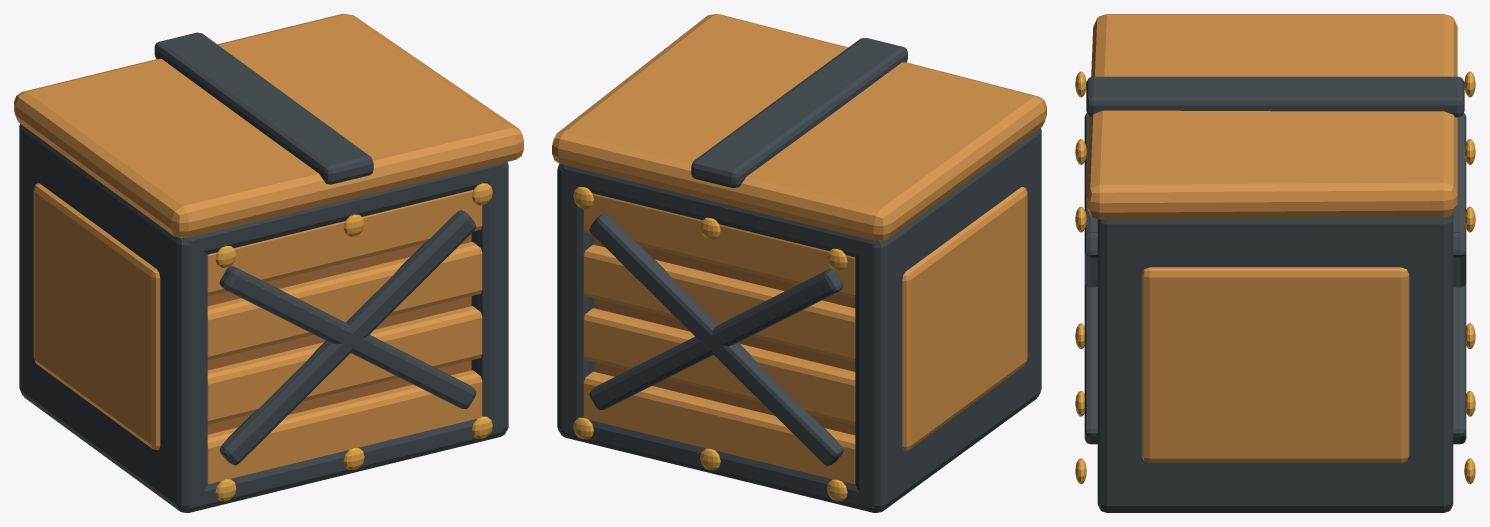
The model's file is crate.glb.
The picture shows the model from 3 angles, left to right: view 1: azimuth 30°, elevation 25°; view 2: azimuth 150°, elevation 25°; view 3: azimuth 270°, elevation 25°; orthographic projection. The views are drawn at different scales.
Parts seen in each view (by area): view 1: Lid, Corner_Post, Side_Panel, Front_Plank, Front_Plank.001, Front_Plank.002, Lid_Band, Front_Plank.003, X_Brace, Corner_Post.001, X_Brace.001, Iron_Band (+2 smaller); view 2: Lid, Corner_Post, Side_Panel, Back_Plank, Back_Plank.001, Back_Plank.002, Lid_Band, Back_Plank.003, X_Brace.002, Corner_Post.001, X_Brace.003, Iron_Band (+2 smaller); view 3: Lid, Side_Panel.001, Corner_Post.001, Lid_Band, X_Brace.003, X_Brace.001, X_Brace, X_Brace.002, Iron_Band.
Boxes of the visible parts, <box> form: Lid: <box>14,14,523,237</box>; Corner_Post: <box>19,124,207,510</box>; Side_Panel: <box>33,183,160,449</box>; Front_Plank: <box>207,370,482,483</box>; Front_Plank.001: <box>207,306,482,424</box>; Front_Plank.002: <box>207,241,482,360</box>; Lid_Band: <box>154,32,373,184</box>; Front_Plank.003: <box>207,190,482,296</box>; X_Brace: <box>219,210,476,465</box>; Corner_Post.001: <box>471,162,508,431</box>; X_Brace.001: <box>219,266,476,408</box>; Iron_Band: <box>24,396,506,512</box>; Lid: <box>552,14,1046,240</box>; Corner_Post: <box>855,128,1041,510</box>; Side_Panel: <box>902,187,1027,450</box>; Back_Plank: <box>583,371,855,484</box>; Back_Plank.001: <box>583,308,855,425</box>; Back_Plank.002: <box>583,244,855,361</box>; Lid_Band: <box>691,38,907,187</box>; Back_Plank.003: <box>583,193,855,298</box>; X_Brace.002: <box>589,213,843,465</box>; Corner_Post.001: <box>557,164,594,432</box>; X_Brace.003: <box>589,269,843,410</box>; Iron_Band: <box>559,398,1036,512</box>; Lid: <box>1086,14,1457,219</box>; Side_Panel.001: <box>1141,267,1409,462</box>; Corner_Post.001: <box>1097,216,1453,510</box>; Lid_Band: <box>1086,76,1464,117</box>; X_Brace.003: <box>1453,113,1466,444</box>; X_Brace.001: <box>1084,113,1097,444</box>; X_Brace: <box>1084,232,1097,287</box>; X_Brace.002: <box>1453,232,1466,287</box>; Iron_Band: <box>1097,503,1453,512</box>.
Size of the model in its own units: 2.51 by 2.19 by 2.31.
